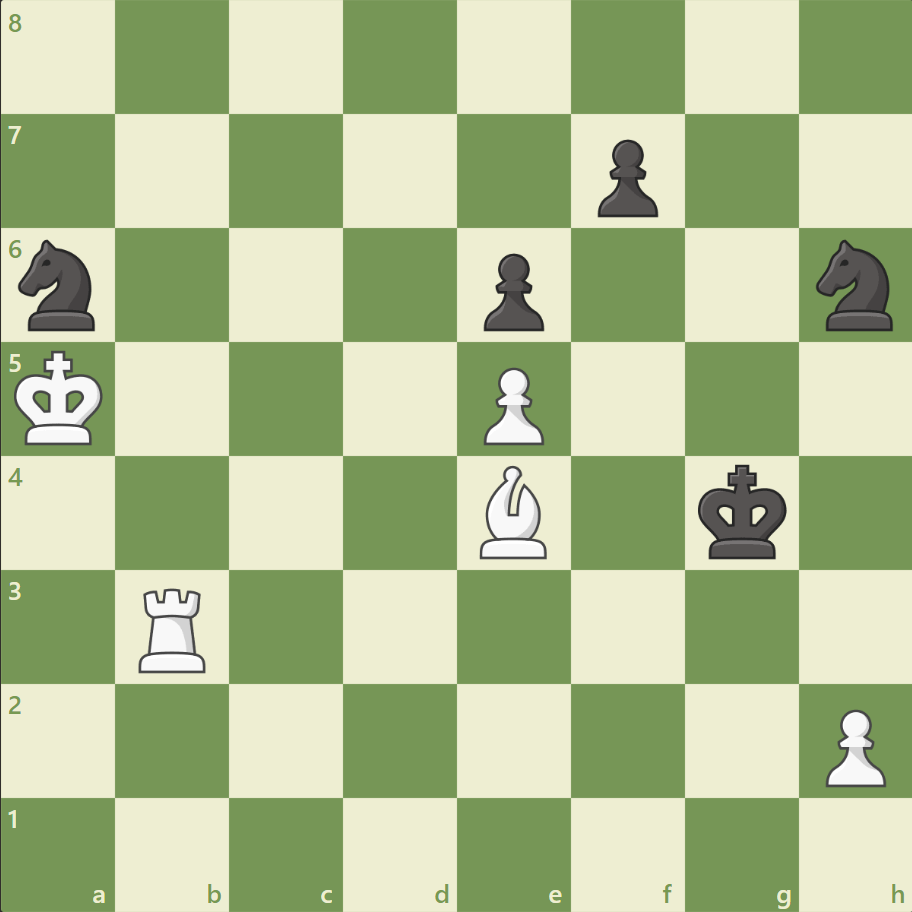B: (471, 460, 555, 563)
K: (11, 344, 111, 452)
P: (474, 359, 549, 450), (815, 700, 889, 791)
R: (133, 579, 215, 676)
k: (692, 458, 792, 566)
n: (11, 234, 108, 337), (806, 234, 903, 337)
p: (474, 246, 549, 337), (588, 132, 662, 223)
